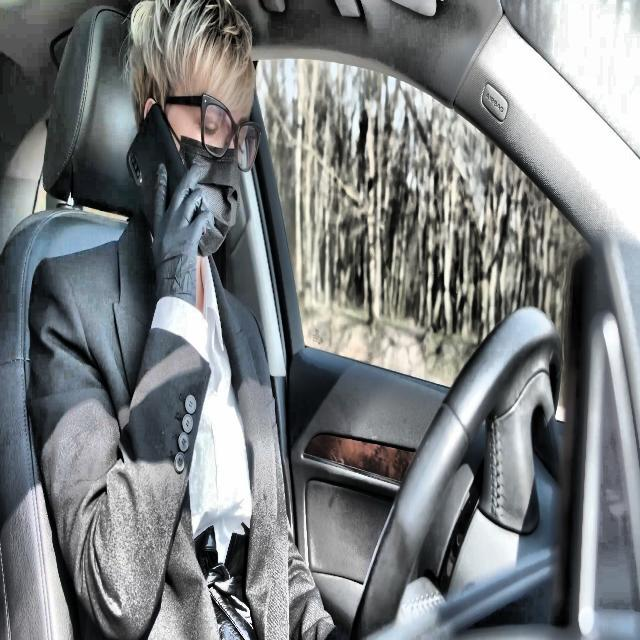Phone: (127, 100, 208, 242)
